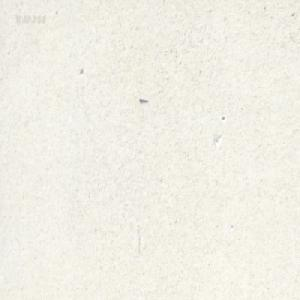Nail: (138, 96, 148, 102)
